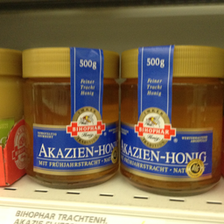honey: (123, 45, 224, 199), (22, 47, 122, 192)
